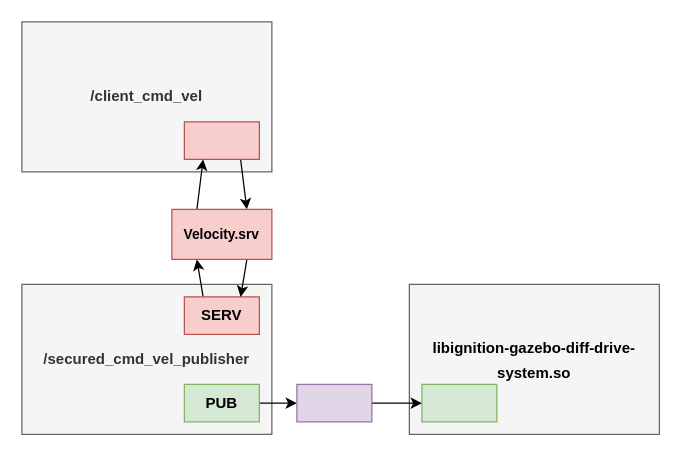
The diagram is 681 pixels wide and 456 high, and some of its shapes have lost their labels. Each missing label, with the centre of its shape:
"/cmd_vel" belongs at point 334,402.
"CLI" belongs at point 221,140.
"SUB" belongs at point 459,402.
